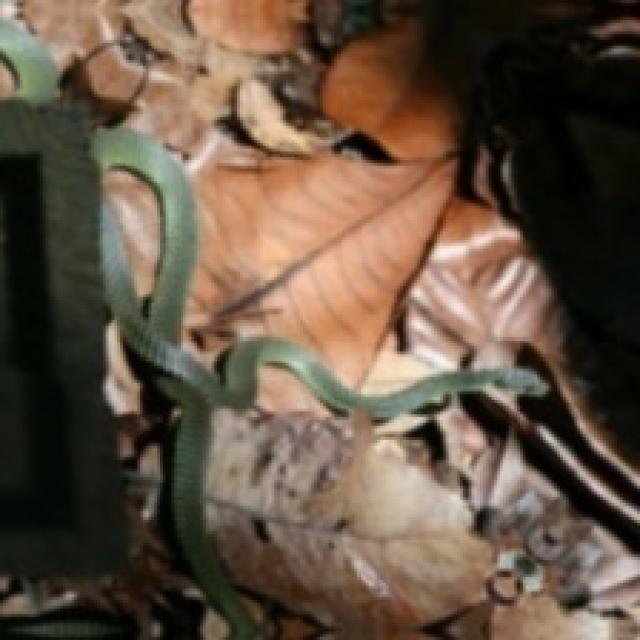paradise tree snake: (91, 129, 545, 639), (0, 21, 56, 106)
